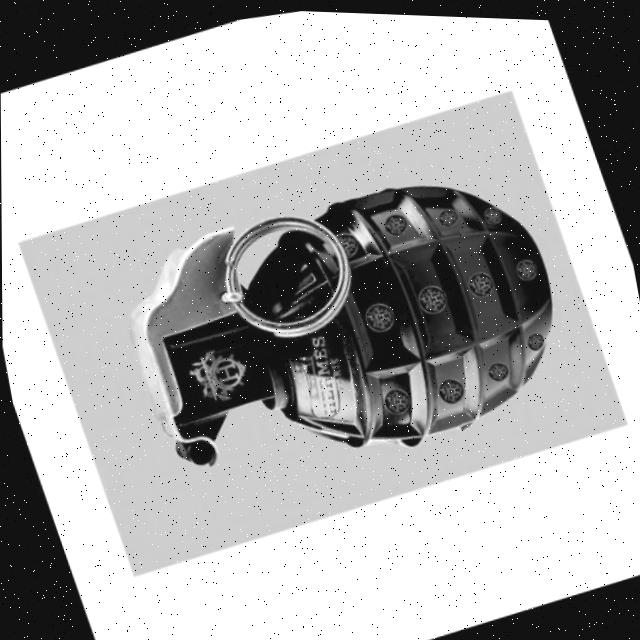grenade: (101, 120, 605, 527)
